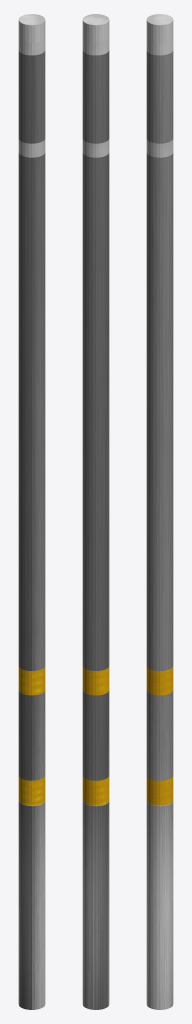
File: HyoushikiPole.fbx
The picture shows the model from 3 angles, left to right: view 1: azimuth 90°, elevation 25°; view 2: azimuth 150°, elevation 25°; view 3: azimuth 270°, elevation 25°; orthographic projection.
Visible parts, largest first — view 1: Empty_Mesh; view 2: Empty_Mesh; view 3: Empty_Mesh.
Part boxes in pixels (x1,y1,x2,y2): Empty_Mesh: (18,14,45,1009); Empty_Mesh: (82,14,109,1009); Empty_Mesh: (146,14,173,1009).
Size of the model in its own units: 0.0529 by 2.16 by 0.0529.
